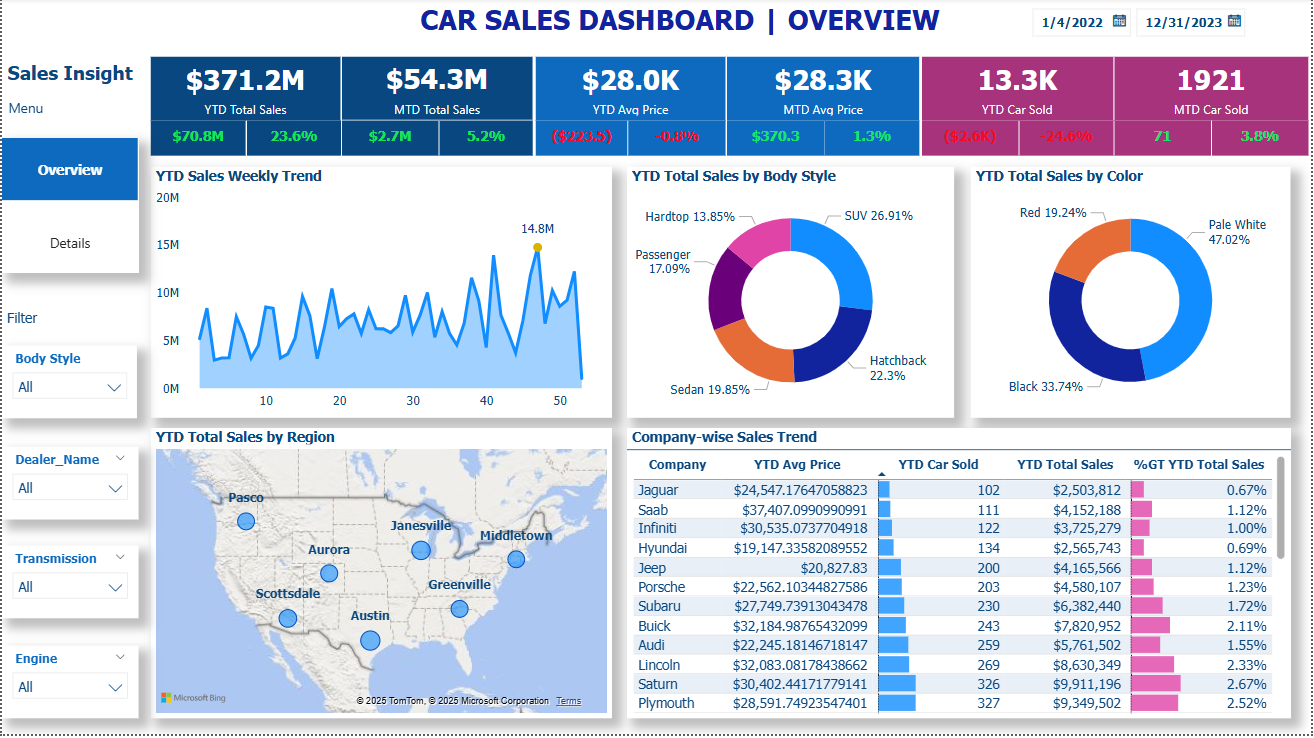

The dashboard page shown, as its layout file describes it:
{"tool":"powerbi","page":{"name":"Overview","canvas":[1280,720],"ordinal":0},"visuals":[{"type":"textbox","box":[371.7,0,583.3,57.5],"z":0},{"type":"card","title":"YTD Total Sales","fields":{"Values":["car_data.YTD Total Sales"]},"box":[145.5,57.5,185.9,62.4],"z":1000},{"type":"card","fields":{"Values":["car_data.Sale Difference"]},"box":[145.5,119.8,92.9,34.2],"z":2000},{"type":"card","fields":{"Values":["car_data.YOY Sales Growth"]},"box":[239.7,119.8,91.7,34.2],"z":3000},{"type":"card","fields":{"Values":["car_data.MTD sales diff"]},"box":[332.1,119.7,94.1,34.2],"z":4000},{"type":"card","fields":{"Values":["car_data.MOM Sales Growth"]},"box":[427.6,119.7,91.2,34.2],"z":5000},{"type":"card","fields":{"Values":["car_data.Avg price diff"]},"box":[521.7,119.7,89.8,34.2],"z":6000},{"type":"card","fields":{"Values":["car_data.YOY Avg Price"]},"box":[612.9,119.7,95.5,34.2],"z":7000},{"type":"card","title":"YTD Total Sales","fields":{"Values":["car_data.MTD Total Sales"]},"box":[332.3,57.6,186.4,61.3],"z":8000},{"type":"card","title":"YTD Total Sales","fields":{"Values":["car_data.YTD Avg Price"]},"box":[522.1,57.5,185.9,62.4],"z":9000},{"type":"card","title":"YTD Total Sales","fields":{"Values":["car_data.MTD Avg Price"]},"box":[709.2,57.5,188.3,62.4],"z":10000},{"type":"card","title":"YTD Total Sales","fields":{"Values":["car_data.YTD Car Sold"]},"box":[900,57.5,187.1,62.4],"z":11000},{"type":"card","title":"YTD Total Sales","fields":{"Values":["car_data.MTD Car Sold"]},"box":[1088.3,57.5,189.5,62.4],"z":12000},{"type":"card","fields":{"Values":["car_data.Diff MTD Avg Price"]},"box":[709.2,119.8,95.4,34.2],"z":13000},{"type":"card","fields":{"Values":["car_data.MOM Avg Price"]},"box":[804.6,119.8,92.9,34.2],"z":14000},{"type":"card","fields":{"Values":["car_data.Diff YTD Car Sold"]},"box":[900,119.8,94.2,34.2],"z":15000},{"type":"card","fields":{"Values":["car_data.YOY Car Sold"]},"box":[995.4,119.8,91.7,34.2],"z":16000},{"type":"card","fields":{"Values":["car_data.Diff MTD Car Sold"]},"box":[1088.3,119.8,94.2,34.2],"z":17000},{"type":"card","fields":{"Values":["car_data.MOM Car Sold"]},"box":[1183.7,119.8,94.2,34.2],"z":18000},{"type":"areaChart","title":"YTD Sales Weekly Trend","fields":{"Category":["calendar.Week_No"],"Y":["Sum(car_data.Price ($))","car_data.MaxPoint"]},"box":[145.5,165.1,451.2,245.8],"z":19000},{"type":"donutChart","fields":{"Y":["car_data.YTD Total Sales"],"Category":["car_data.Body Style"]},"box":[611.4,165.1,320.4,245.8],"z":20000},{"type":"donutChart","fields":{"Y":["car_data.YTD Total Sales"],"Category":["car_data.Color"]},"box":[947.7,165.1,313,245.8],"z":21000},{"type":"map","title":"YTD Total Sales by Region","fields":{"Category":["car_data.Dealer_Region"],"Size":["car_data.YTD Total Sales"]},"box":[145.5,420.7,451.2,283.7],"z":22000},{"type":"tableEx","title":"Company-wise Sales Trend","fields":{"Values":["car_data.Company","car_data.YTD Avg Price","car_data.YTD Car Sold","car_data.YTD Total Sales1","car_data.YTD Total Sales"]},"box":[611.4,420.7,649.3,283.7],"z":23000},{"type":"slicer","fields":{"Values":["calendar.Date_format"]},"box":[995.4,0,231.1,40.4],"z":24000},{"type":"slicer","fields":{"Values":["car_data.Body Style"]},"box":[0,339.9,132.1,70.9],"z":25000},{"type":"slicer","fields":{"Values":["car_data.Dealer_Name"]},"box":[0,439,133.3,70.9],"z":26000},{"type":"slicer","fields":{"Values":["car_data.Transmission"]},"box":[0,535.6,133.3,70.9],"z":27000},{"type":"slicer","fields":{"Values":["car_data.Engine"]},"box":[0,633.4,133.3,70.9],"z":28000},{"type":"textbox","box":[0,298.4,132.1,29.3],"z":29000},{"type":"textbox","box":[0,57.5,133.3,50.1],"z":30000},{"type":"pageNavigator","box":[0,137,133.3,132.1],"z":31000},{"type":"textbox","box":[1.2,92.9,132.1,29.3],"z":31001}]}

Visuals, with their boxes in screenshot pixels (x1, y1, x2, y2), scaled from the page's 1280x720 canvas onto the 1314x738 screenshot:
textbox: Rect(382, 0, 980, 59)
"YTD Total Sales" card: Rect(149, 59, 340, 123)
card - car_data.Sale Difference: Rect(149, 123, 245, 158)
card - car_data.YOY Sales Growth: Rect(246, 123, 340, 158)
card - car_data.MTD sales diff: Rect(341, 123, 438, 158)
card - car_data.MOM Sales Growth: Rect(439, 123, 533, 158)
card - car_data.Avg price diff: Rect(536, 123, 628, 158)
card - car_data.YOY Avg Price: Rect(629, 123, 727, 158)
"YTD Total Sales" card: Rect(341, 59, 532, 122)
"YTD Total Sales" card: Rect(536, 59, 727, 123)
"YTD Total Sales" card: Rect(728, 59, 921, 123)
"YTD Total Sales" card: Rect(924, 59, 1116, 123)
"YTD Total Sales" card: Rect(1117, 59, 1312, 123)
card - car_data.Diff MTD Avg Price: Rect(728, 123, 826, 158)
card - car_data.MOM Avg Price: Rect(826, 123, 921, 158)
card - car_data.Diff YTD Car Sold: Rect(924, 123, 1021, 158)
card - car_data.YOY Car Sold: Rect(1022, 123, 1116, 158)
card - car_data.Diff MTD Car Sold: Rect(1117, 123, 1214, 158)
card - car_data.MOM Car Sold: Rect(1215, 123, 1312, 158)
"YTD Sales Weekly Trend" areaChart: Rect(149, 169, 613, 421)
donutChart - car_data.YTD Total Sales x car_data.Body Style: Rect(628, 169, 957, 421)
donutChart - car_data.YTD Total Sales x car_data.Color: Rect(973, 169, 1294, 421)
"YTD Total Sales by Region" map: Rect(149, 431, 613, 722)
"Company-wise Sales Trend" tableEx: Rect(628, 431, 1294, 722)
slicer - calendar.Date_format: Rect(1022, 0, 1259, 41)
slicer - car_data.Body Style: Rect(0, 348, 136, 421)
slicer - car_data.Dealer_Name: Rect(0, 450, 137, 523)
slicer - car_data.Transmission: Rect(0, 549, 137, 622)
slicer - car_data.Engine: Rect(0, 649, 137, 722)
textbox: Rect(0, 306, 136, 336)
textbox: Rect(0, 59, 137, 110)
pageNavigator: Rect(0, 140, 137, 276)
textbox: Rect(1, 95, 137, 125)
